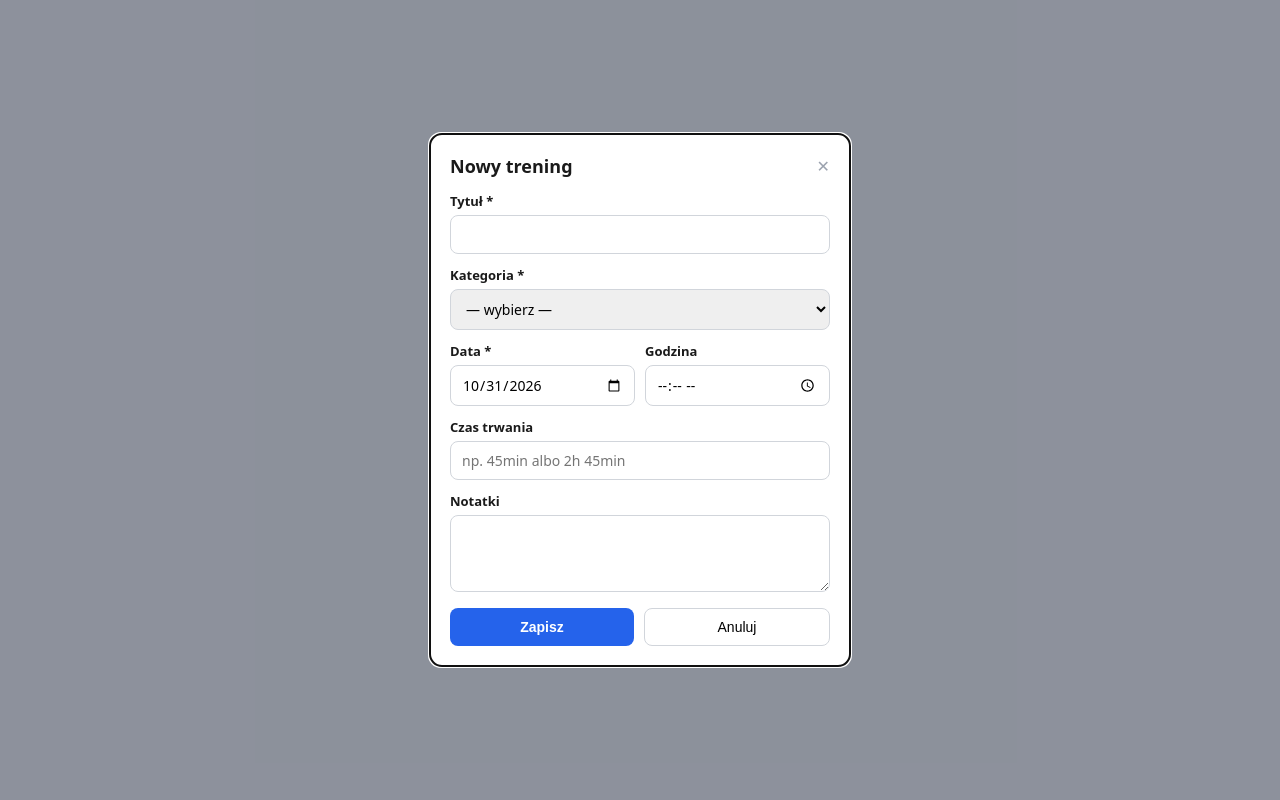
Test case: TrainingPlanForm › odrzuca czas trwania równy zero
Type "Bieganie" into the field labelled "Tytuł *" at (640, 234), box x1=450 y1=215 x2=830 y2=254
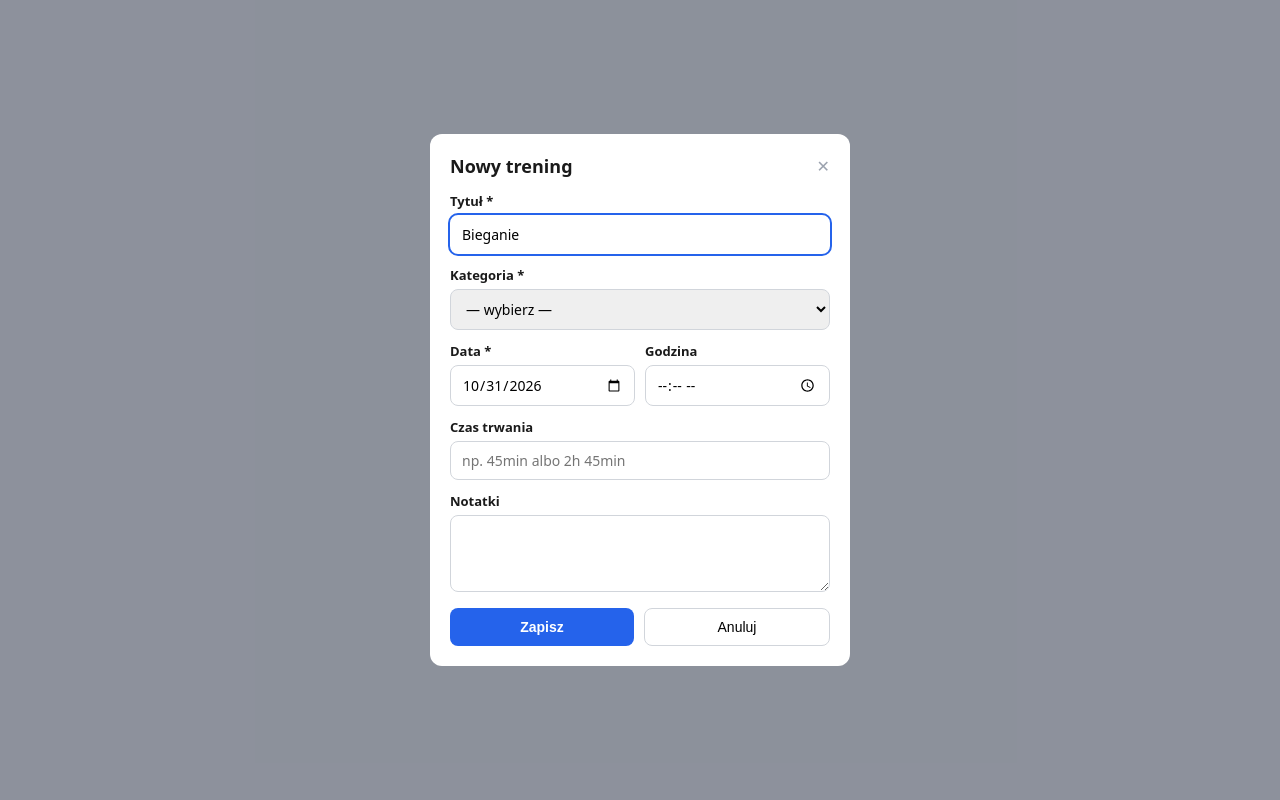
Select "Taniec" in the dropdown labelled "Kategoria *" at (640, 310), box x1=450 y1=289 x2=830 y2=330
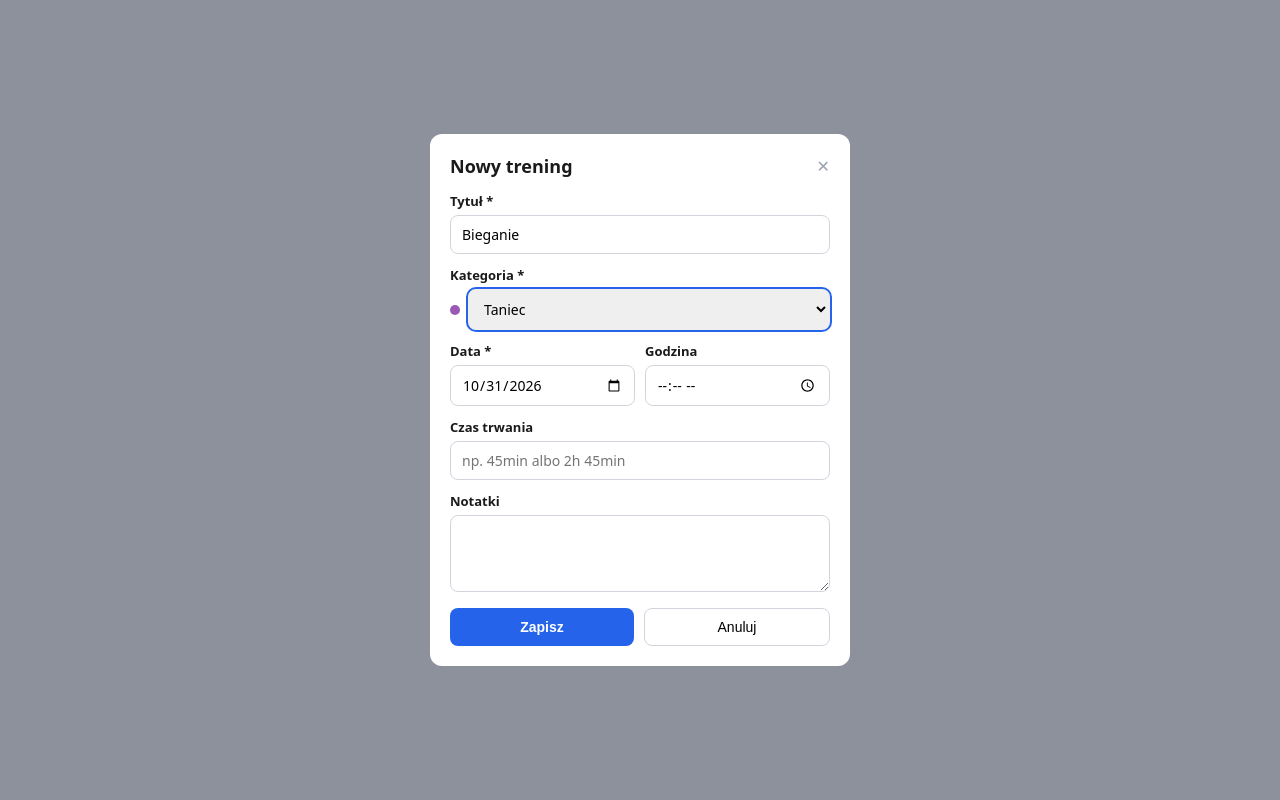
Type "0" into the field labelled "Czas trwania" at (640, 460), box x1=450 y1=441 x2=830 y2=480
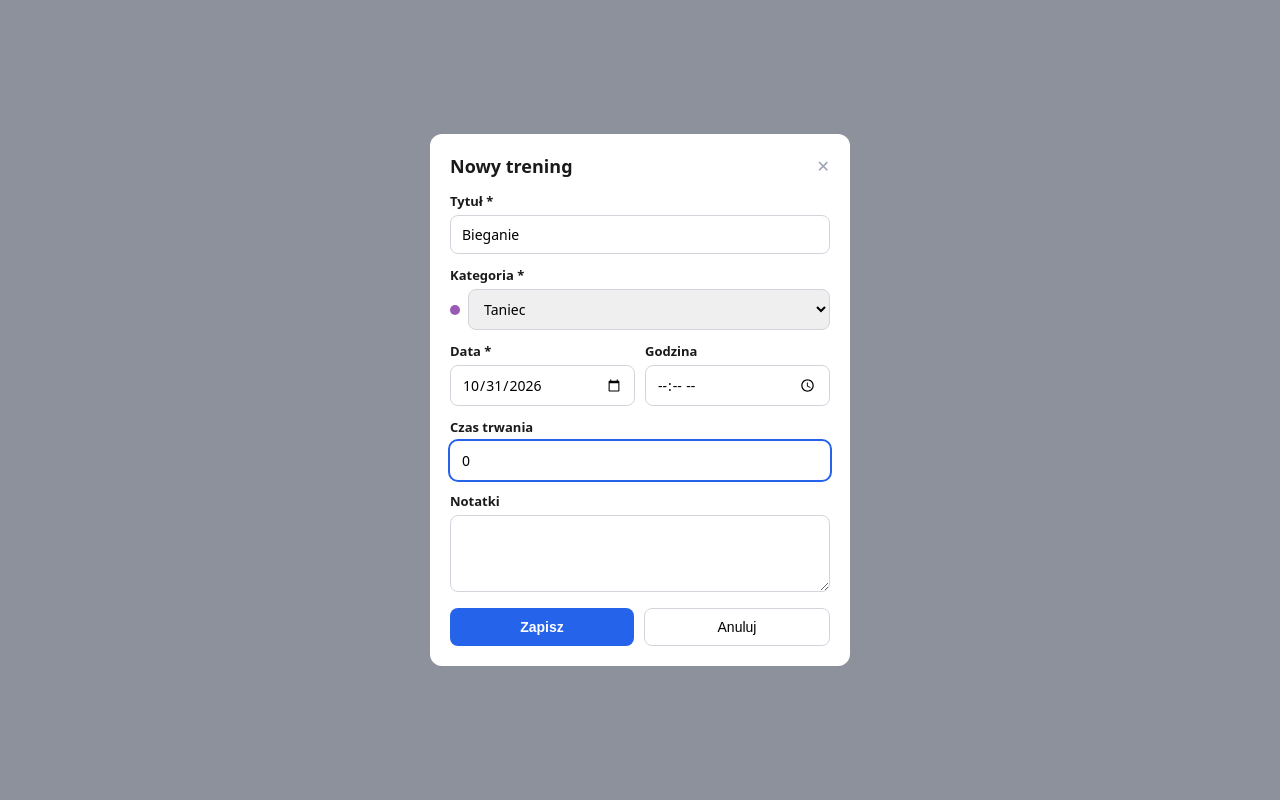
Click the button "Zapisz" at (542, 627), box x1=450 y1=608 x2=634 y2=646
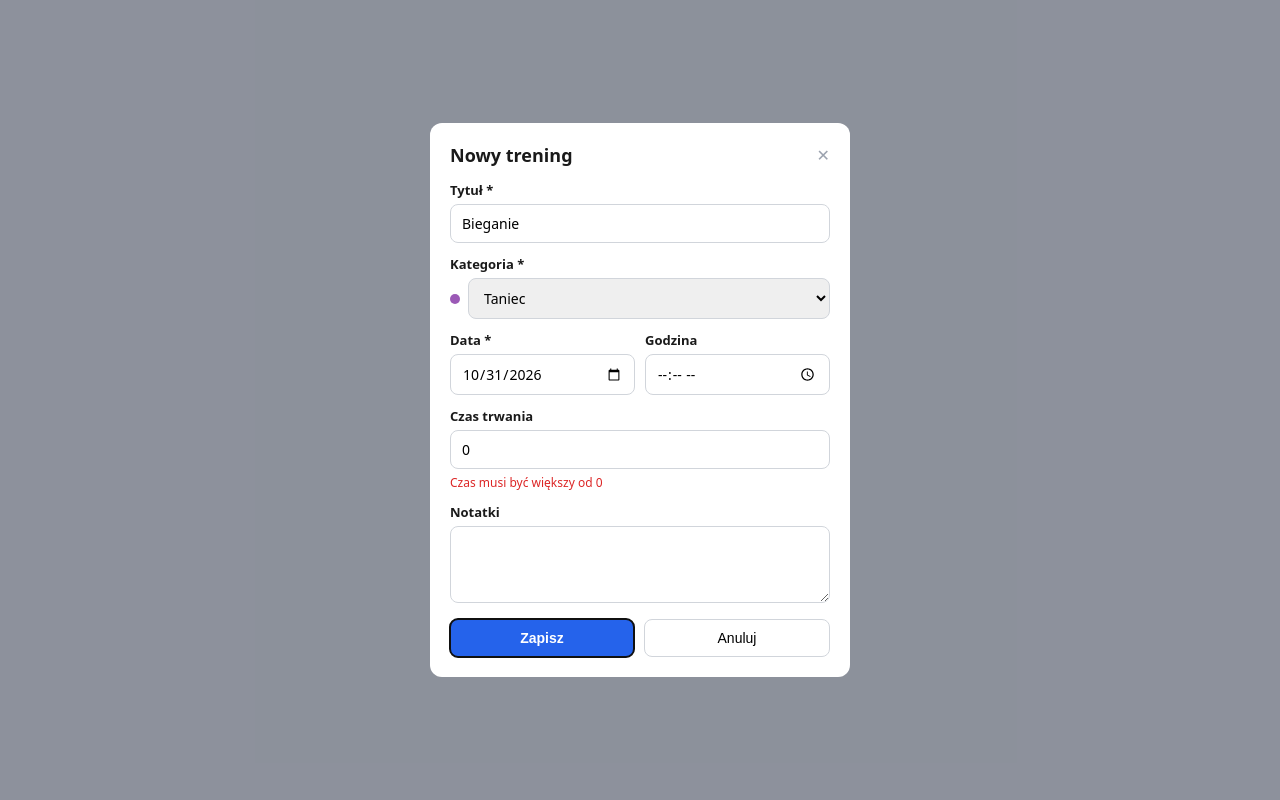
Check: the text "Czas musi być większy od 0" is shown, box x1=450 y1=474 x2=602 y2=491
